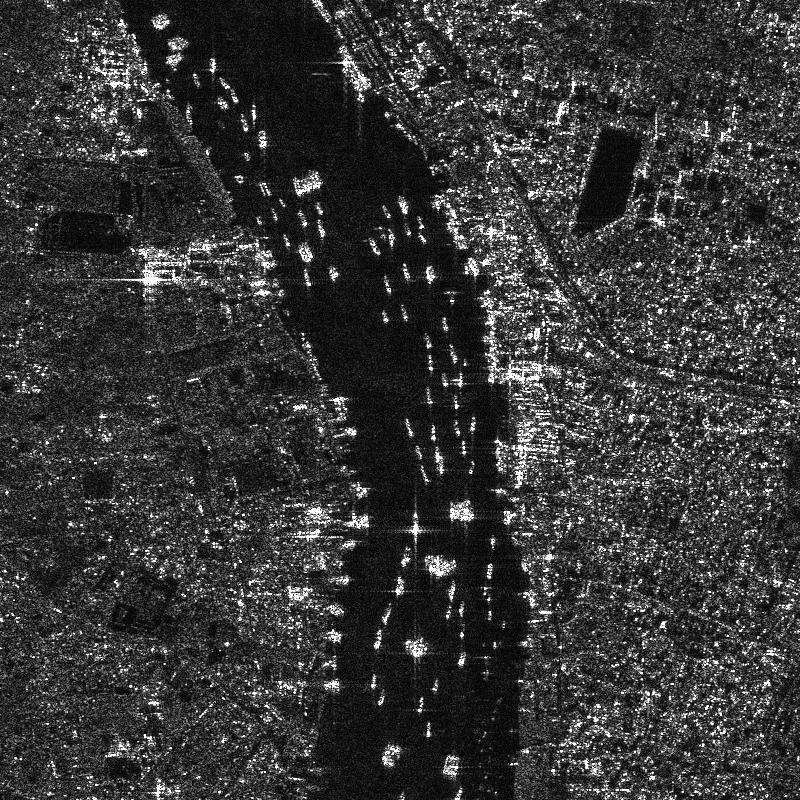ship: (339, 45, 371, 92), (482, 330, 498, 383), (446, 218, 469, 250), (483, 289, 496, 330), (395, 123, 418, 144), (440, 194, 458, 219), (312, 0, 331, 22), (384, 746, 400, 767), (494, 439, 504, 472), (333, 396, 346, 421), (367, 237, 381, 255), (297, 244, 310, 262), (255, 253, 270, 268), (381, 744, 394, 761), (372, 629, 382, 650), (467, 256, 478, 275), (310, 171, 322, 188), (442, 755, 452, 775), (397, 195, 408, 213), (292, 177, 303, 194), (419, 464, 429, 482), (258, 182, 270, 197), (301, 242, 313, 257), (449, 344, 458, 363), (450, 756, 459, 775), (381, 608, 391, 625), (265, 249, 275, 266), (411, 512, 418, 536), (217, 97, 229, 111), (382, 275, 391, 293), (400, 263, 410, 279), (457, 651, 467, 667), (301, 178, 312, 192), (302, 269, 311, 286), (400, 304, 409, 321), (448, 582, 456, 601), (395, 576, 403, 595), (317, 218, 325, 237), (387, 228, 395, 247), (297, 211, 307, 226), (241, 113, 249, 131), (425, 265, 434, 281), (405, 418, 413, 436), (258, 130, 266, 148), (425, 386, 433, 404), (185, 104, 192, 124), (329, 266, 338, 281), (230, 89, 239, 104), (218, 77, 230, 88), (381, 205, 391, 218), (453, 786, 463, 799), (452, 419, 460, 435), (380, 309, 389, 323), (431, 678, 439, 693), (467, 460, 475, 475), (503, 510, 511, 525), (192, 72, 200, 87), (417, 696, 424, 713), (402, 222, 411, 235), (416, 215, 424, 229), (486, 563, 493, 579), (345, 426, 356, 436), (430, 423, 436, 441), (281, 234, 290, 246), (424, 333, 431, 348), (209, 57, 216, 72), (445, 605, 452, 620), (441, 372, 448, 387), (458, 601, 464, 618), (401, 556, 411, 566), (417, 232, 427, 242), (415, 445, 422, 459), (457, 372, 463, 388), (470, 416, 476, 432), (370, 674, 376, 689), (442, 316, 448, 331), (377, 695, 385, 706), (315, 203, 323, 214), (251, 104, 256, 121), (428, 354, 433, 371), (426, 721, 431, 737), (271, 208, 277, 220), (439, 455, 443, 473), (453, 395, 458, 409), (461, 440, 466, 454), (434, 199, 440, 210), (490, 536, 495, 549), (278, 198, 285, 207), (435, 448, 439, 463), (487, 610, 492, 621), (256, 216, 262, 225), (254, 238, 259, 248), (244, 152, 249, 161), (399, 792, 405, 799), (464, 265, 468, 274)
